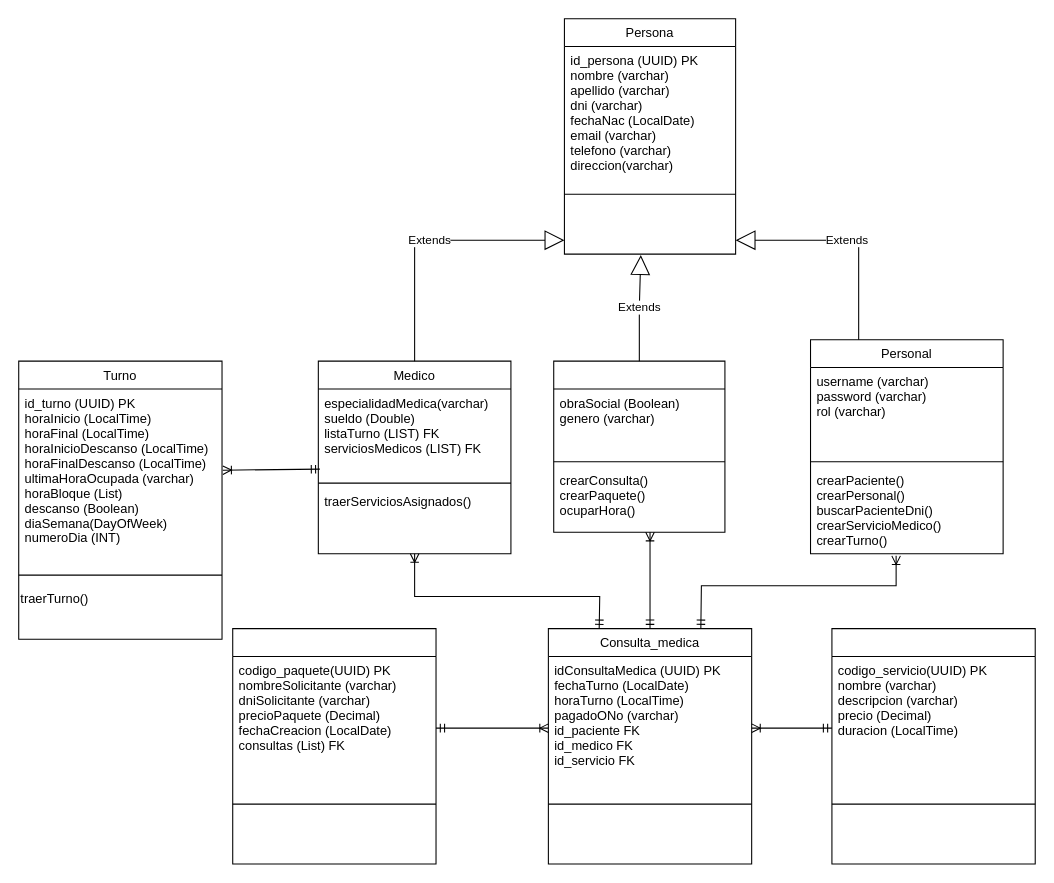
This 1054x883 diagram has some shape labels left out. The box of each missing label's shape, as (x1, y1, x2, y2) in pixels:
Paciente: (553, 360, 725, 532)
Paquete_servicio: (232, 628, 436, 864)
Servicio_medico: (831, 628, 1035, 864)
